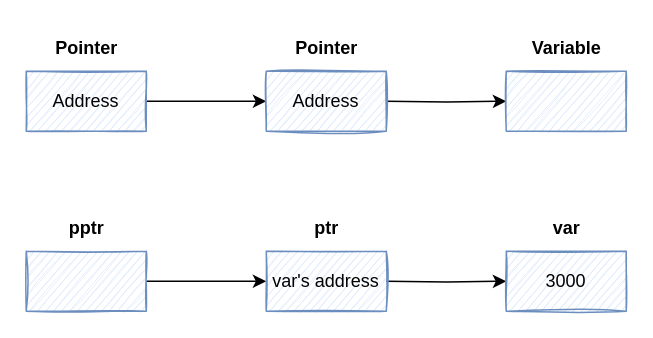
Some shapes in this 653 by 338 pixel diagram are drawn without their labels. The centre of each missing label's shape, as x and y in pixels:
"ptr's address" belongs at point (85, 280).
"Value" belongs at point (565, 100).
